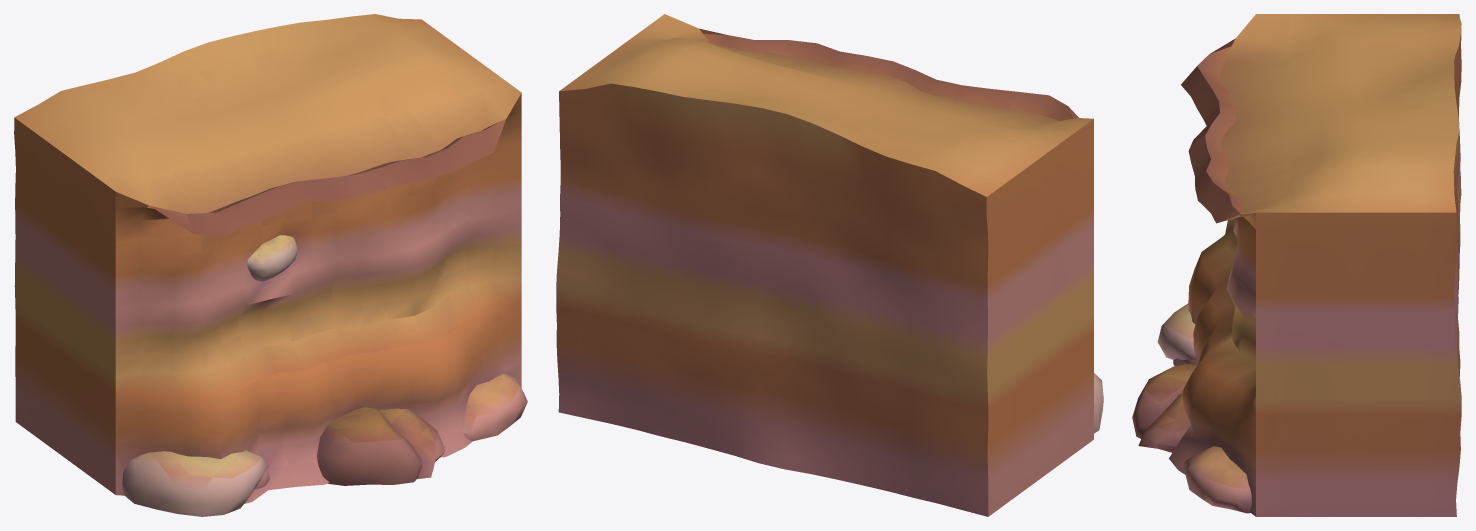
The model's file is amber_cliff_strata_a.glb.
3 views of the same model, side by side, from view 1: azimuth 30°, elevation 25°; view 2: azimuth 150°, elevation 25°; view 3: azimuth 270°, elevation 25° (orthographic). The views are drawn at different scales.
Visible parts, largest first — view 1: amber_cliff_strata_a; view 2: amber_cliff_strata_a; view 3: amber_cliff_strata_a.
Part boxes in pixels (box(x1,y1,x2,y2)): amber_cliff_strata_a: box(14, 14, 527, 516); amber_cliff_strata_a: box(556, 14, 1103, 516); amber_cliff_strata_a: box(1132, 14, 1461, 516).
Bounding box in the file's own units: 14 × 11.17 × 9.82.
